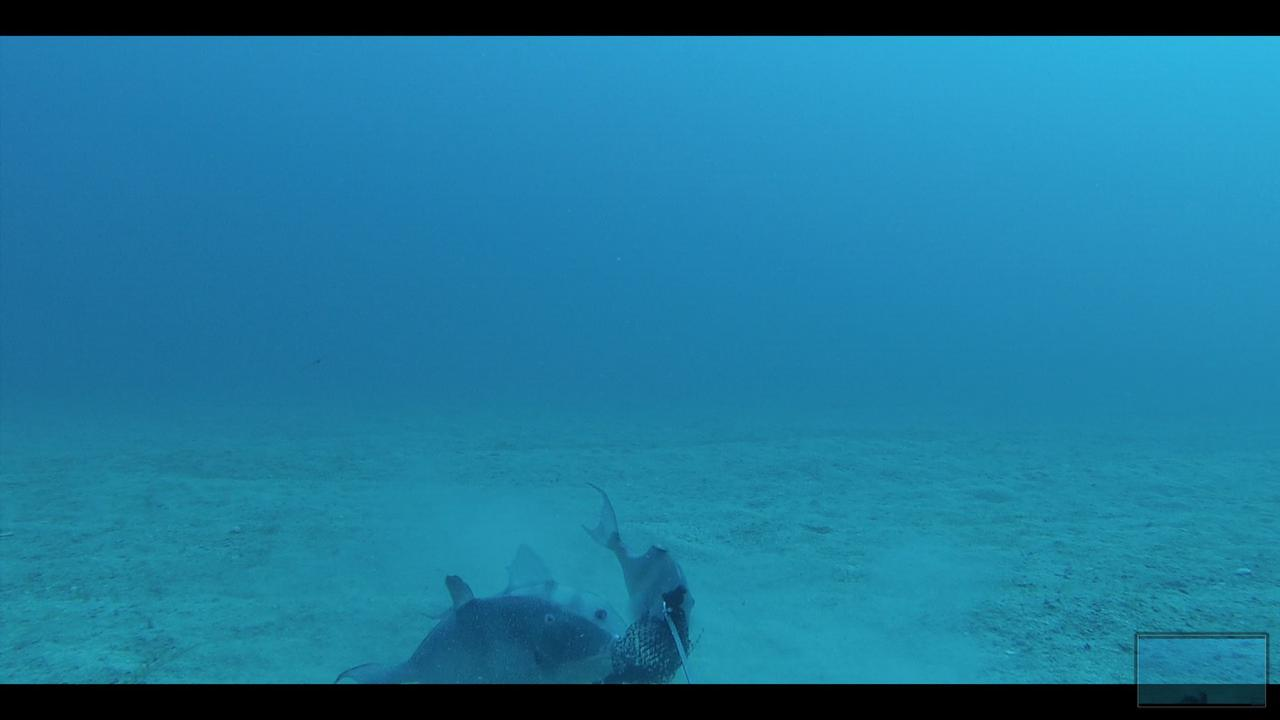balistes: (322, 569, 617, 682), (403, 541, 639, 643), (579, 480, 696, 644)
